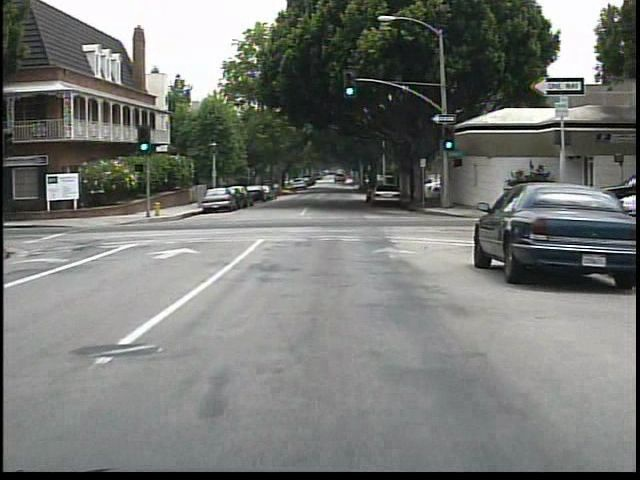person: (522, 170, 549, 218)
